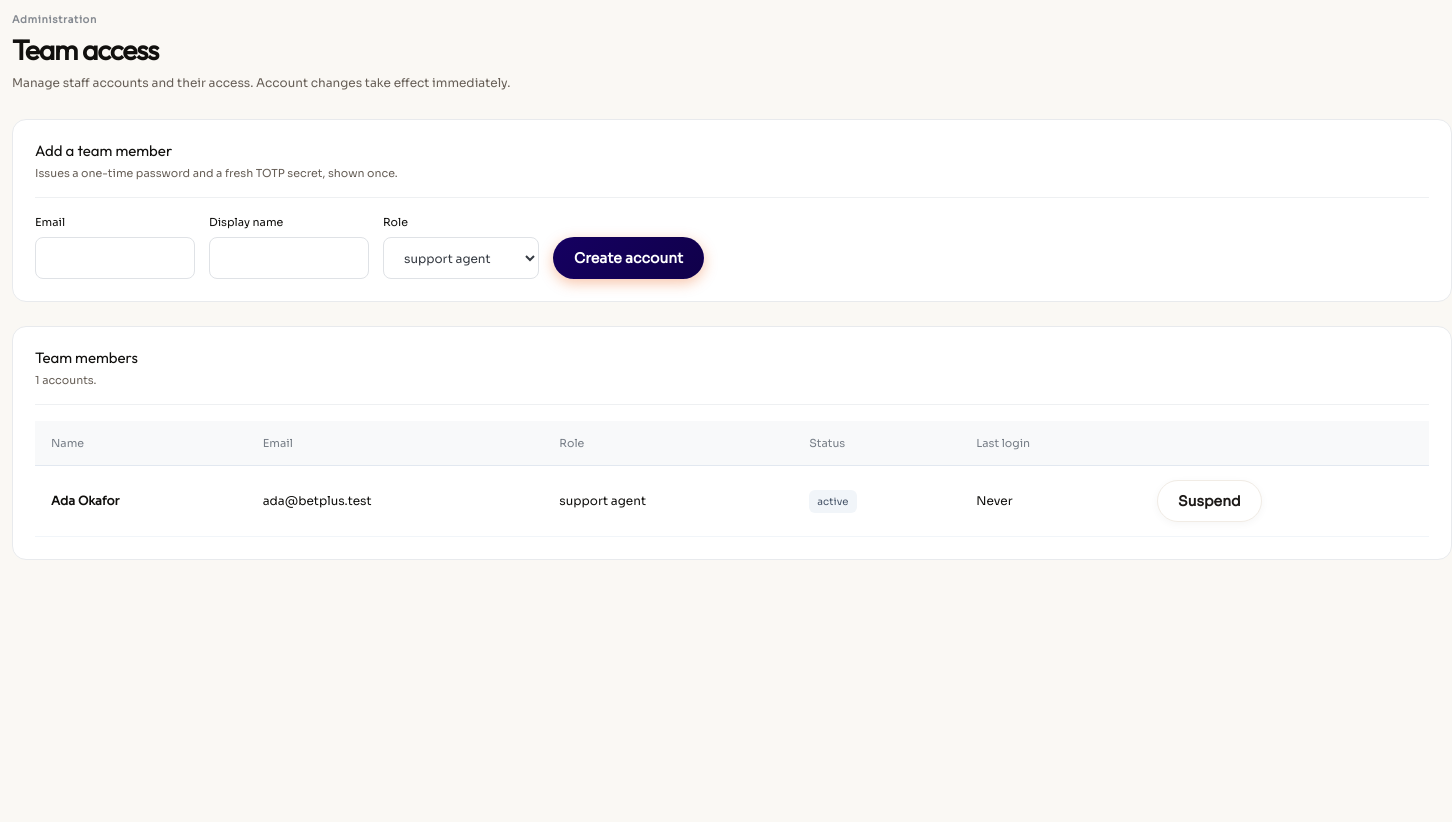
Test case: UsersConsole › suspends a real user via the real endpoint, applying immediately
Expected: the column heading "Ada Okafor" is shown, [35,466,247,537]
Click the button "Suspend". click: (1209, 501)
box: [1157,480,1262,522]
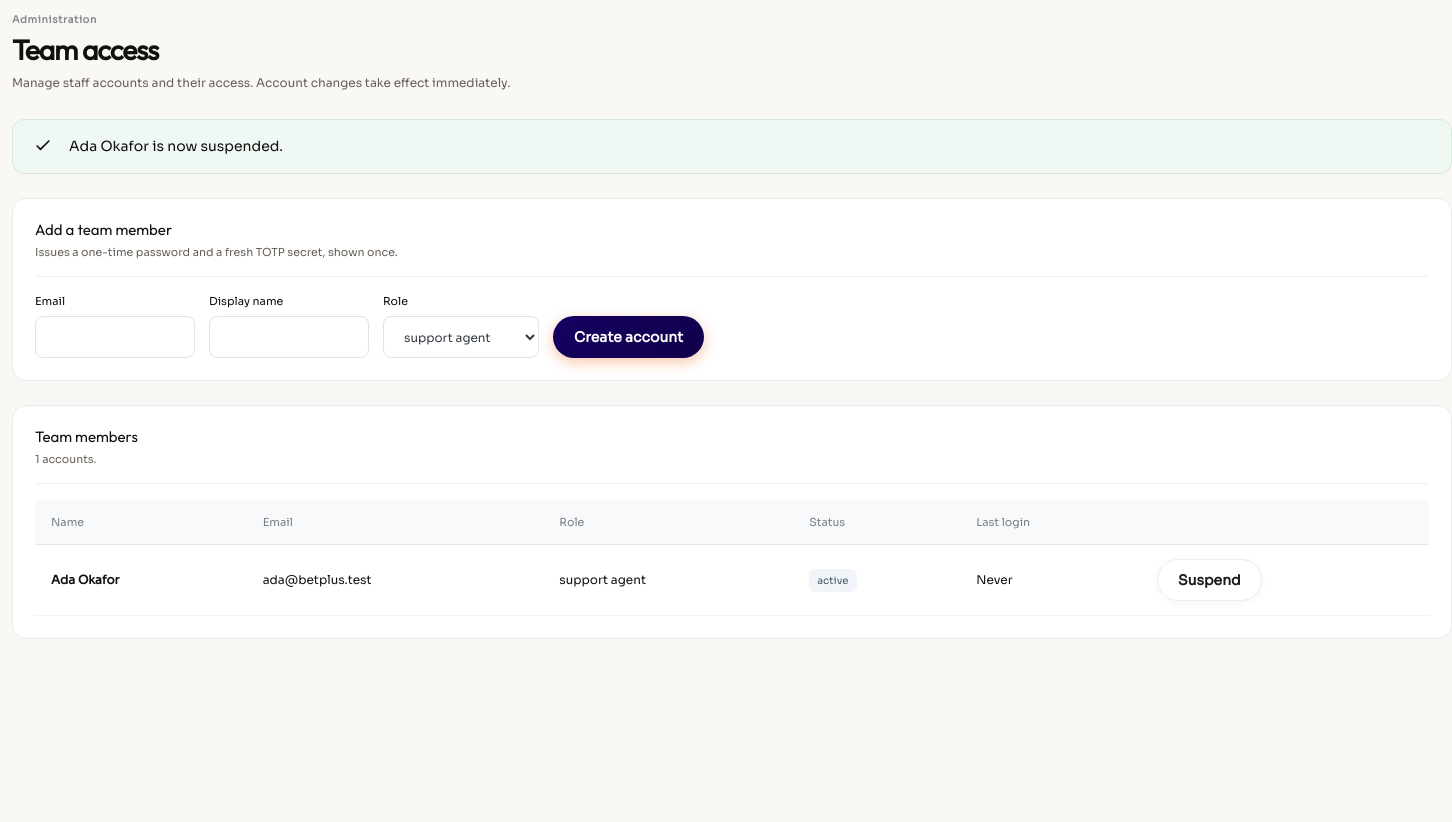
Expected: the message shows "Ada Okafor is now suspended", [69,137,283,155]
